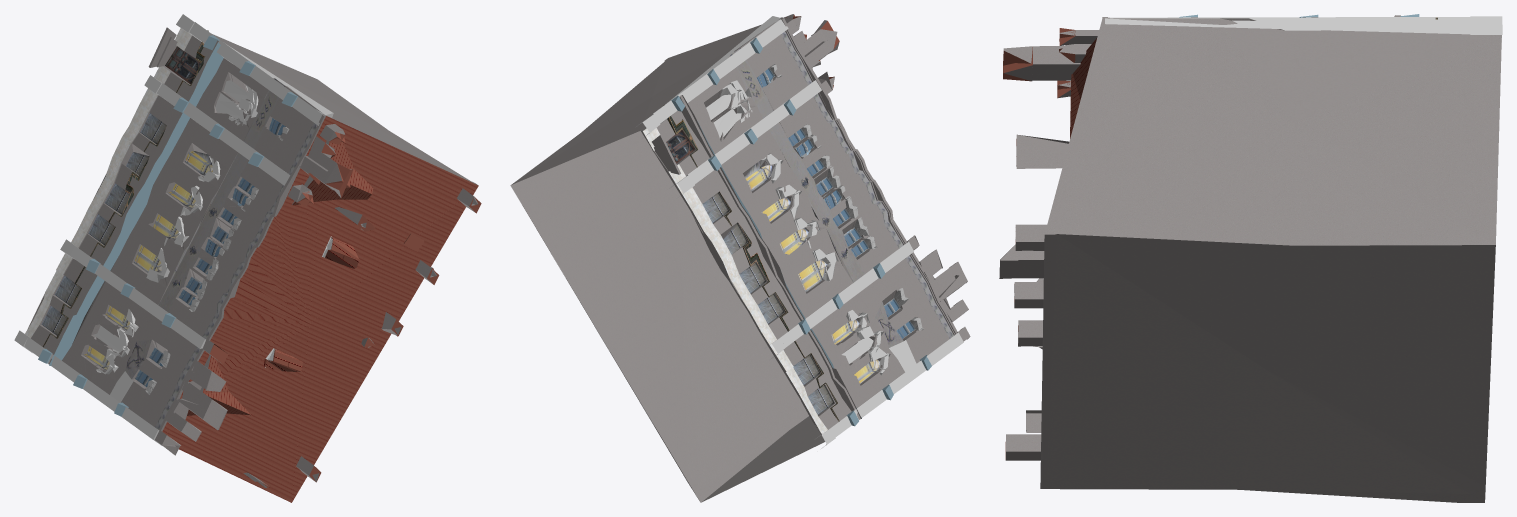
The model's file is Olevimagi_8-origo.obj.
The picture shows the model from 3 angles, left to right: view 1: azimuth 30°, elevation 25°; view 2: azimuth 150°, elevation 25°; view 3: azimuth 270°, elevation 25°; orthographic projection. The views are drawn at different scales.
Parts seen in each view (by area): view 1: polySurface234; view 2: polySurface234; view 3: polySurface234.
Part boxes in pixels (x1=…): polySurface234: x1=14, y1=14, x2=481, y2=502; polySurface234: x1=510, y1=14, x2=970, y2=502; polySurface234: x1=999, y1=14, x2=1502, y2=502.
Bounding box in the file's own units: 18.75 × 21 × 18.33.
